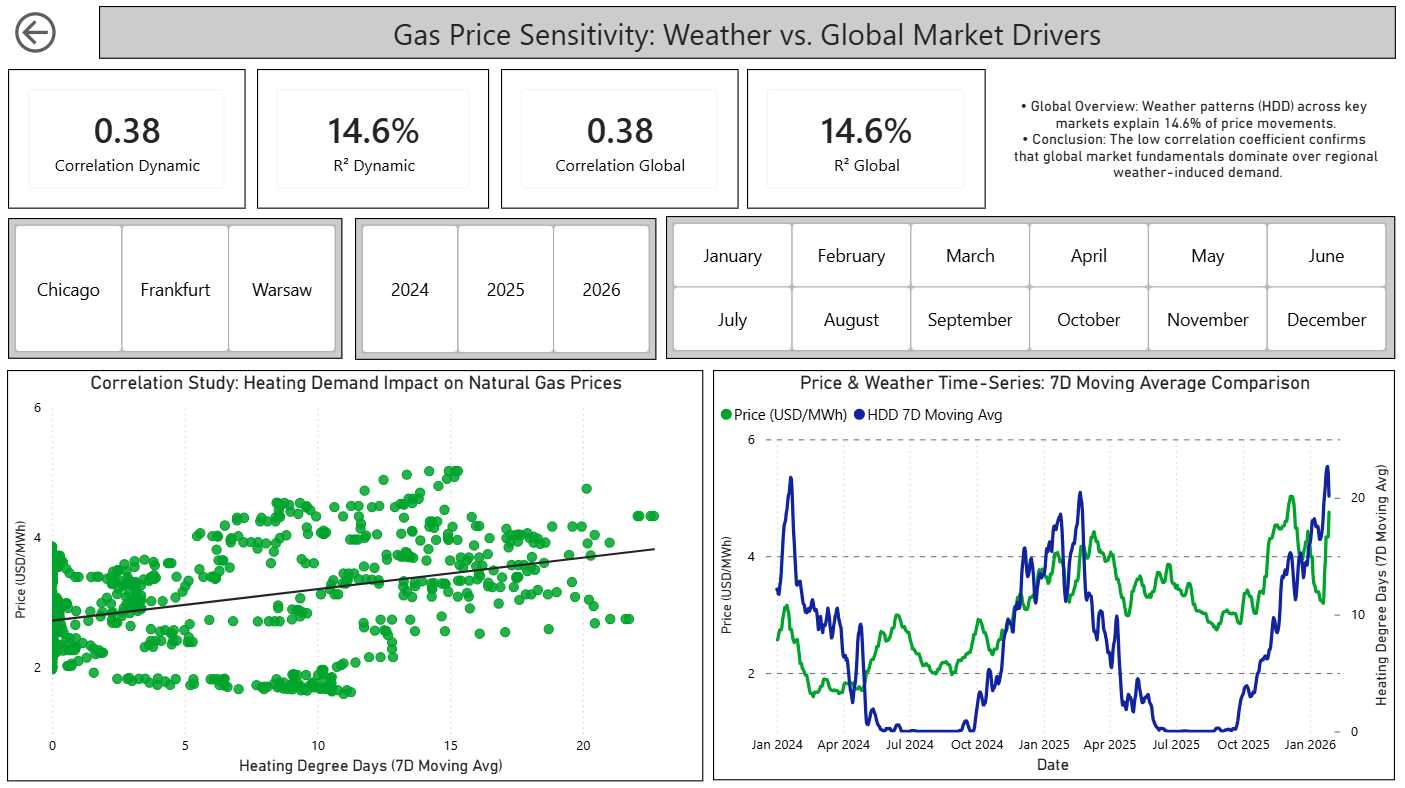

Layout of this report page (visuals, bound fields, positions):
{"tool":"powerbi","page":{"name":"Gas Price Sensitivity","canvas":[1280,720],"ordinal":2},"visuals":[{"type":"scatterChart","title":"Correlation Study: Heating Demand Impact on Natural Gas Prices","fields":{"Category":["DATE_TABLE.Date"],"Y":["_Measures.Price AVG 7D"],"X":["_Measures.HH 7D AVG"]},"box":[7.3,337.3,632.9,373.6],"z":0},{"type":"textbox","box":[90.7,6.3,1178.8,48.1],"z":1000},{"type":"advancedSlicerVisual","fields":{"Values":["DATE_TABLE.Date.Variation.Date Hierarchy.Month"]},"box":[606.7,197.5,662.5,130],"z":2000},{"type":"lineChart","title":"Price & Weather Time-Series: 7D Moving Average Comparison","fields":{"Category":["DATE_TABLE.Date"],"Y":["_Measures.Price AVG 7D"],"Y2":["_Measures.HH 7D AVG"]},"box":[649.3,337.1,620,372.9],"z":3000},{"type":"advancedSlicerVisual","fields":{"Values":["weather_data.City_EN"]},"box":[8.3,199.2,304.2,128.3],"z":4000},{"type":"cardVisual","fields":{"Data":["_Measures.Correlation_Dynamic CityGas"]},"box":[8.2,63.5,215.7,127.5],"z":5000,"group":"g1"},{"type":"actionButton","box":[9.1,6.3,81.6,48.1],"z":5000},{"type":"cardVisual","fields":{"Data":["_Measures.R_Squared Dynamic"]},"box":[234.8,63.5,211.3,127.5],"z":6000,"group":"g1"},{"type":"group","id":"g1","title":"Group 1","box":[8.2,63.5,1260.5,127.9],"z":6000},{"type":"cardVisual","fields":{"Data":["_Measures.Correlation Global CityGas"]},"box":[455.9,63.5,215.7,127.5],"z":7000,"group":"g1"},{"type":"advancedSlicerVisual","fields":{"Values":["DATE_TABLE.Date.Variation.Date Hierarchy.Year"]},"box":[323.3,199.2,274.2,129.2],"z":7000},{"type":"cardVisual","fields":{"Data":["_Measures.R_Squared Global"]},"box":[680.3,63.5,216.8,127.5],"z":8000,"group":"g1"},{"type":"card","fields":{"Values":["_Measures.Executive_Summary_GAS"]},"box":[907.2,64,361.5,127],"z":9000,"group":"g1"}]}

Visuals, with their boxes in screenshot pixels (x1, y1, x2, y2), scaled from the page's 1280x720 canvas onto the 1405x788 screenshot:
"Correlation Study: Heating Demand Impact on Natural Gas Prices" scatterChart: <region>8, 369, 703, 778</region>
textbox: <region>100, 7, 1393, 60</region>
advancedSlicerVisual - DATE_TABLE.Date.Variation.Date Hierarchy.Month: <region>666, 216, 1393, 358</region>
"Price & Weather Time-Series: 7D Moving Average Comparison" lineChart: <region>713, 369, 1393, 777</region>
advancedSlicerVisual - weather_data.City_EN: <region>9, 218, 343, 358</region>
cardVisual - _Measures.Correlation_Dynamic CityGas: <region>9, 69, 246, 209</region>
actionButton: <region>10, 7, 100, 60</region>
cardVisual - _Measures.R_Squared Dynamic: <region>258, 69, 490, 209</region>
"Group 1" group: <region>9, 69, 1393, 209</region>
cardVisual - _Measures.Correlation Global CityGas: <region>500, 69, 737, 209</region>
advancedSlicerVisual - DATE_TABLE.Date.Variation.Date Hierarchy.Year: <region>355, 218, 656, 359</region>
cardVisual - _Measures.R_Squared Global: <region>747, 69, 985, 209</region>
card - _Measures.Executive_Summary_GAS: <region>996, 70, 1393, 209</region>
